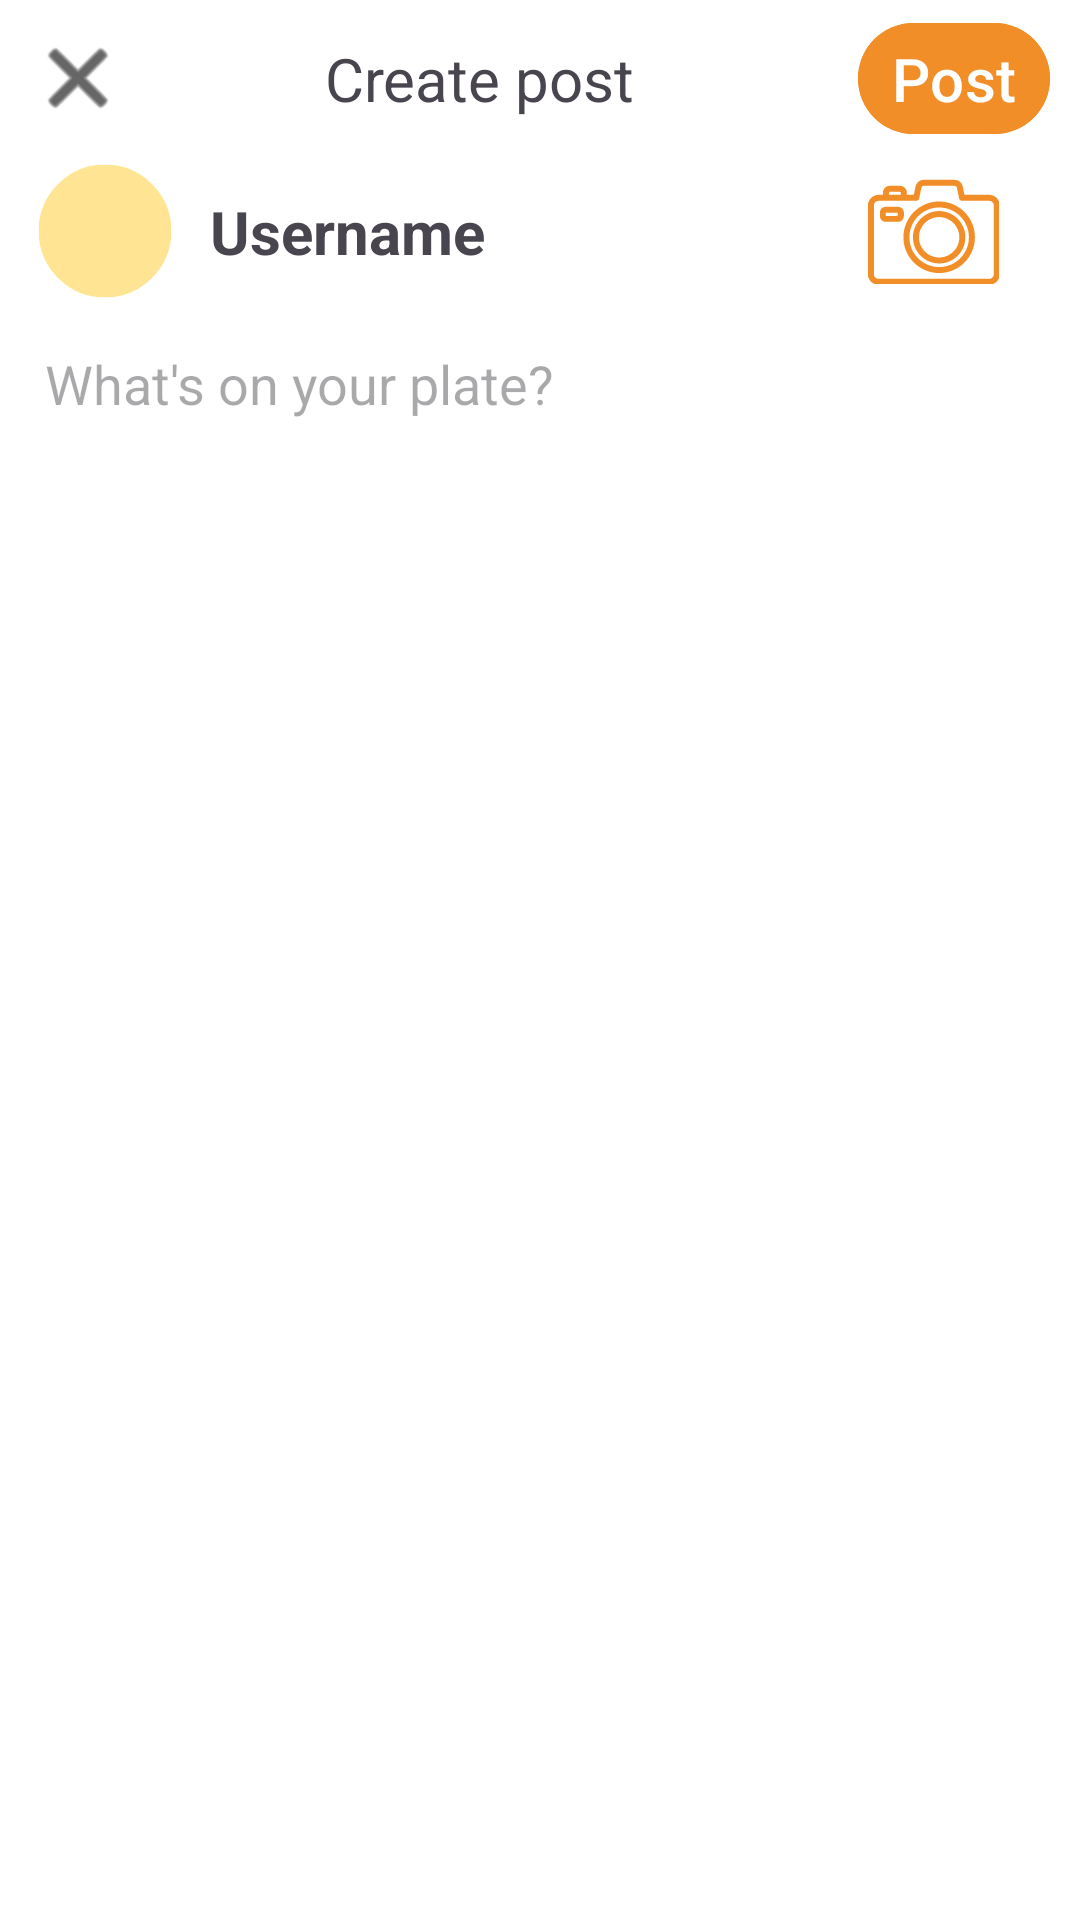

Named icons in this screenshot (1080px x 1920px) and their bounding boxes, [left=x1, top=y1, right=x2, bottom=y2]:
Camera Button: [left=868, top=179, right=999, bottom=284]
close clear cancel: [left=48, top=48, right=108, bottom=108]
